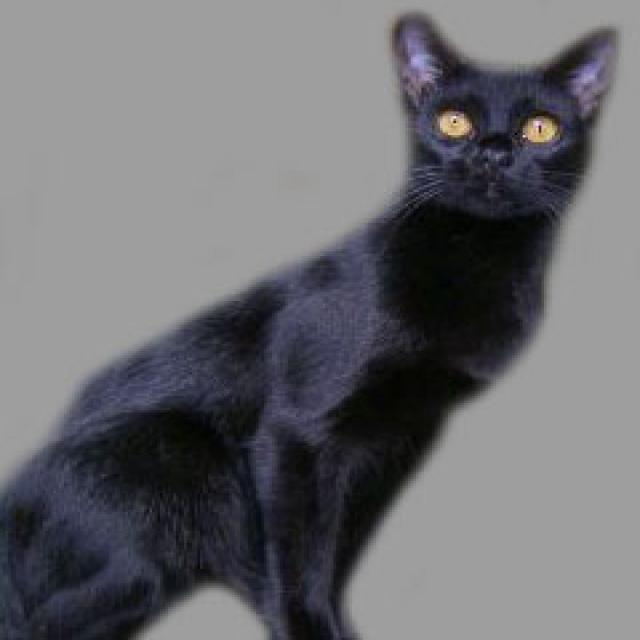Bombay: (387, 11, 630, 232)
